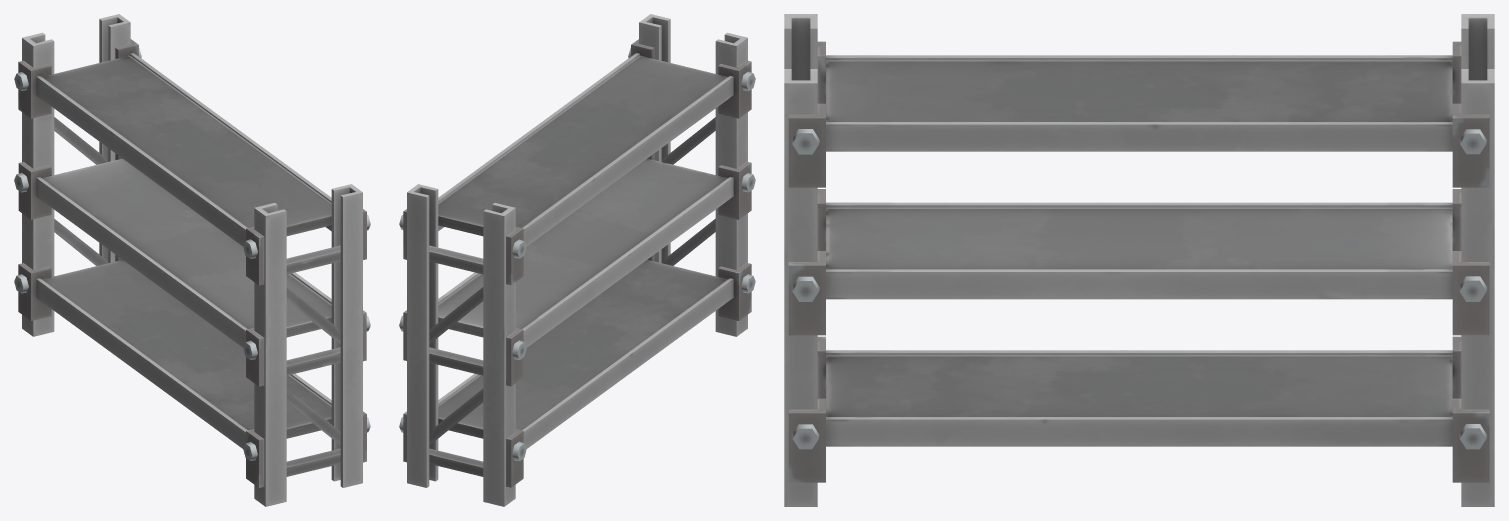
Rendered from Pfb_Shelf__2.fbx.
3 renders of one model, left to right at view 1: azimuth 30°, elevation 25°; view 2: azimuth 150°, elevation 25°; view 3: azimuth 270°, elevation 25°, orthographic. The views are drawn at different scales.
Visible parts, largest first — view 1: Mat_Shelf_01_03; view 2: Mat_Shelf_01_03; view 3: Mat_Shelf_01_03.
Boxes of the visible parts, x1=… form: Mat_Shelf_01_03: x1=14, y1=14, x2=370, y2=506; Mat_Shelf_01_03: x1=399, y1=14, x2=755, y2=506; Mat_Shelf_01_03: x1=784, y1=14, x2=1494, y2=506.
Bounding box in the file's own units: 1.7 × 3.99 × 6.06.
1 material, 1 textured.
